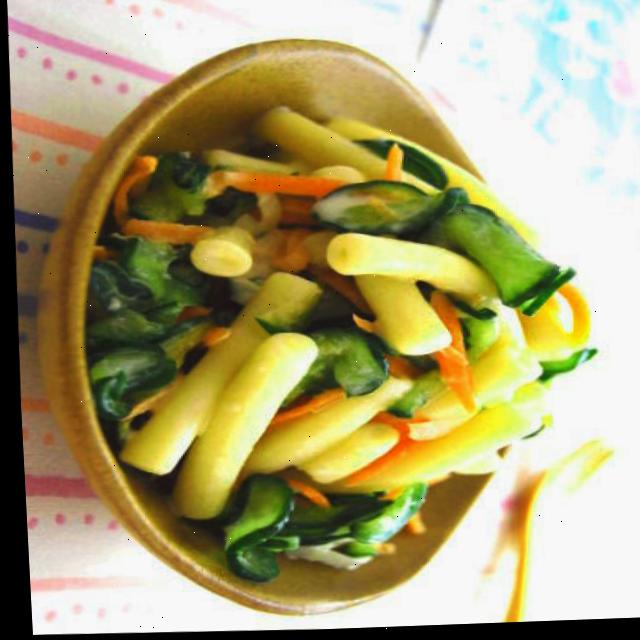蔬菜料理: (14, 25, 614, 632)
